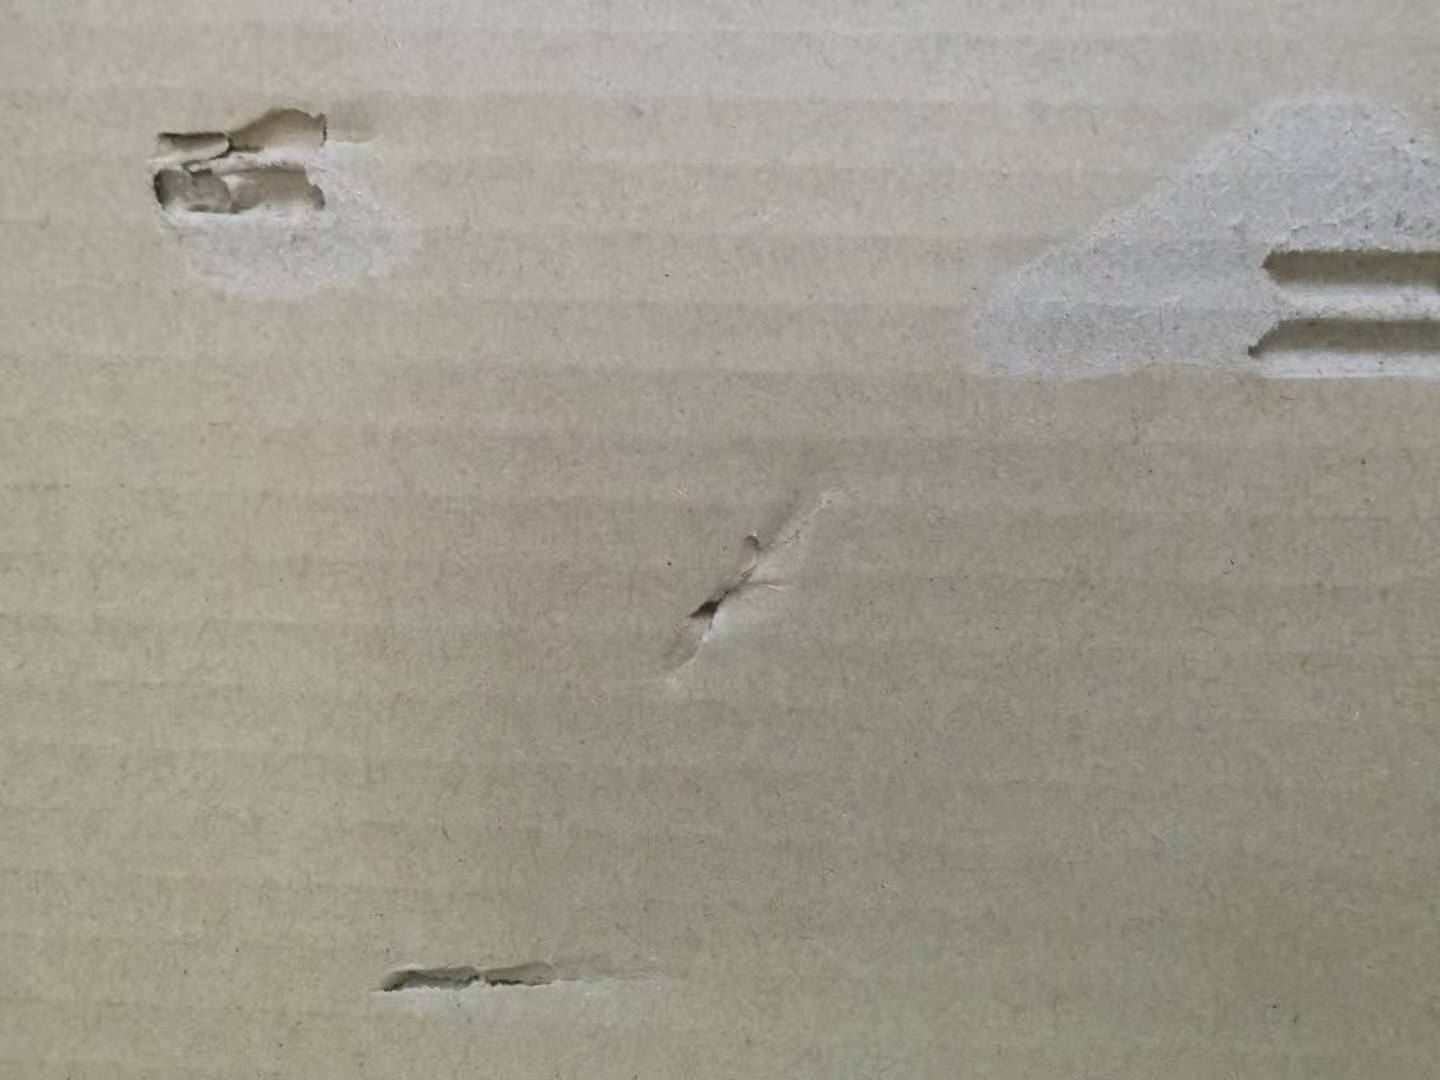defect: (916, 54, 1440, 425), (124, 71, 452, 332), (627, 450, 879, 702), (351, 925, 679, 1035)
